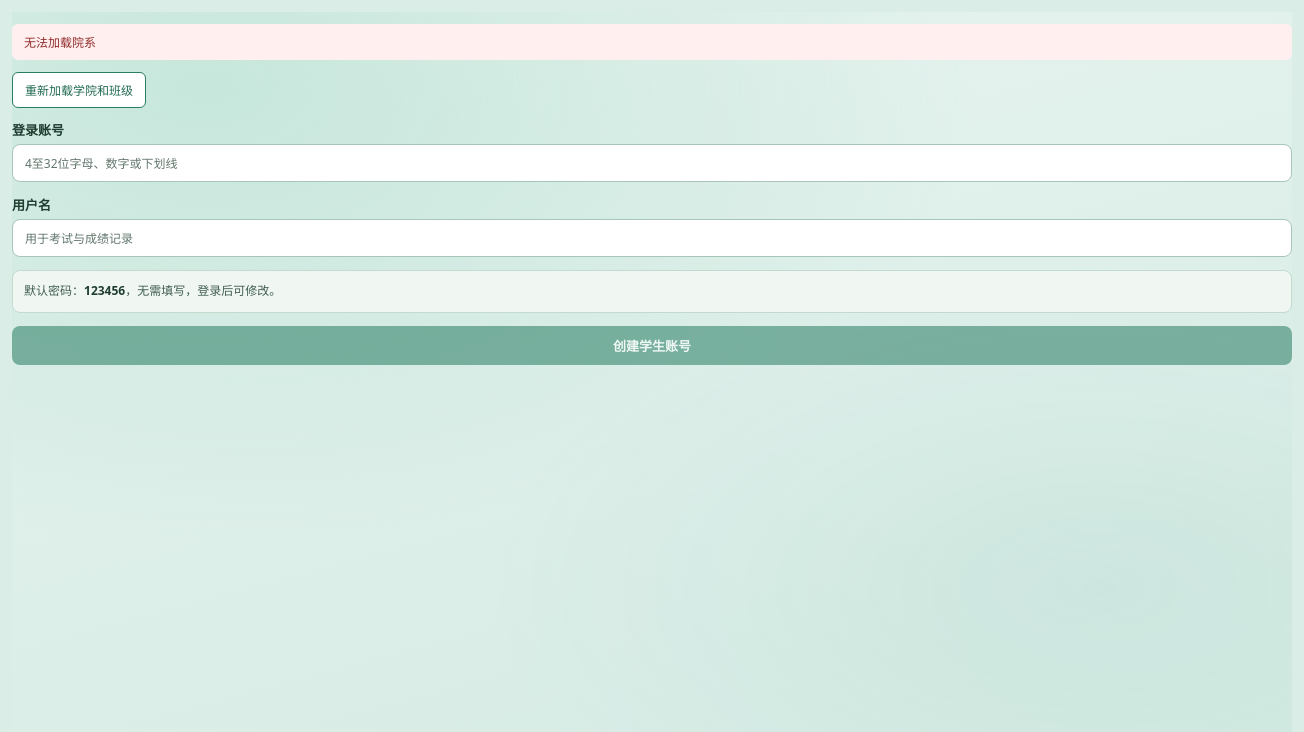
Test: simplified student registration › can retry organization loading
Click the button with class "retry-button" at point(79, 90), box [12, 72, 146, 108]
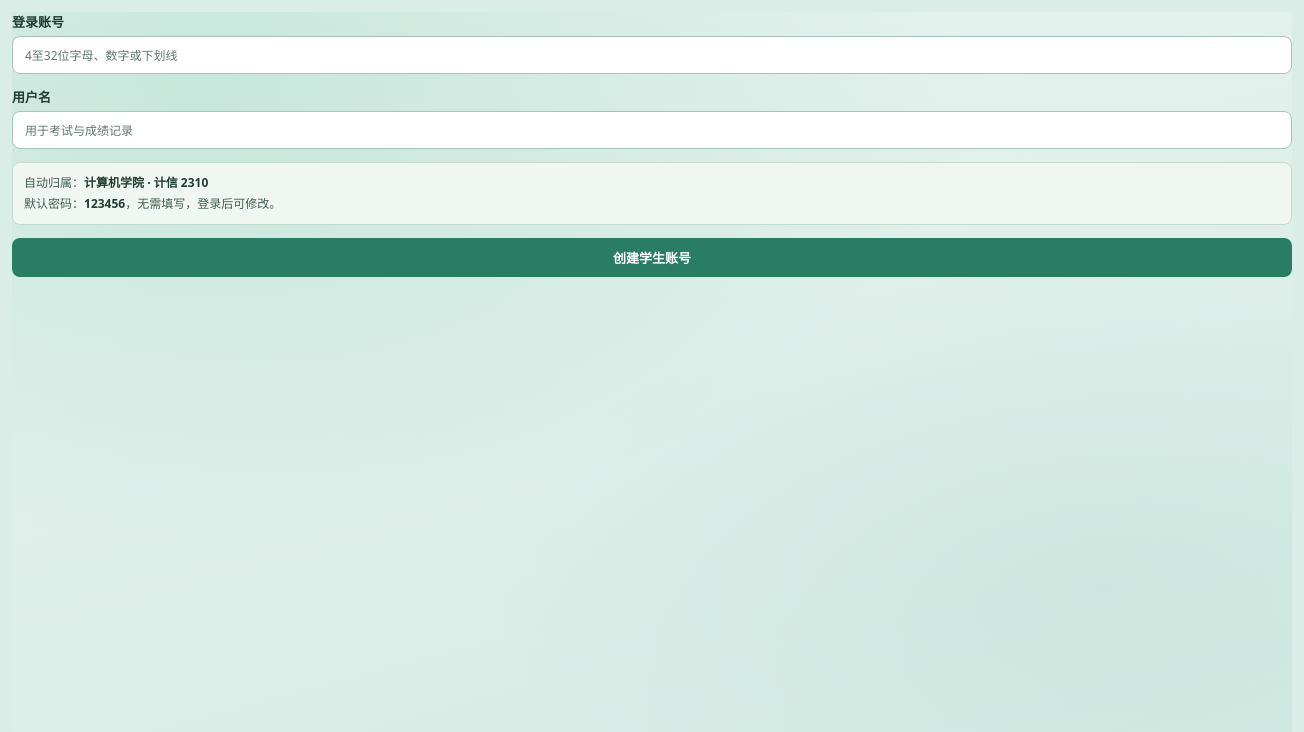
Check: the text "计信 2310" is shown, box [84, 174, 208, 191]
